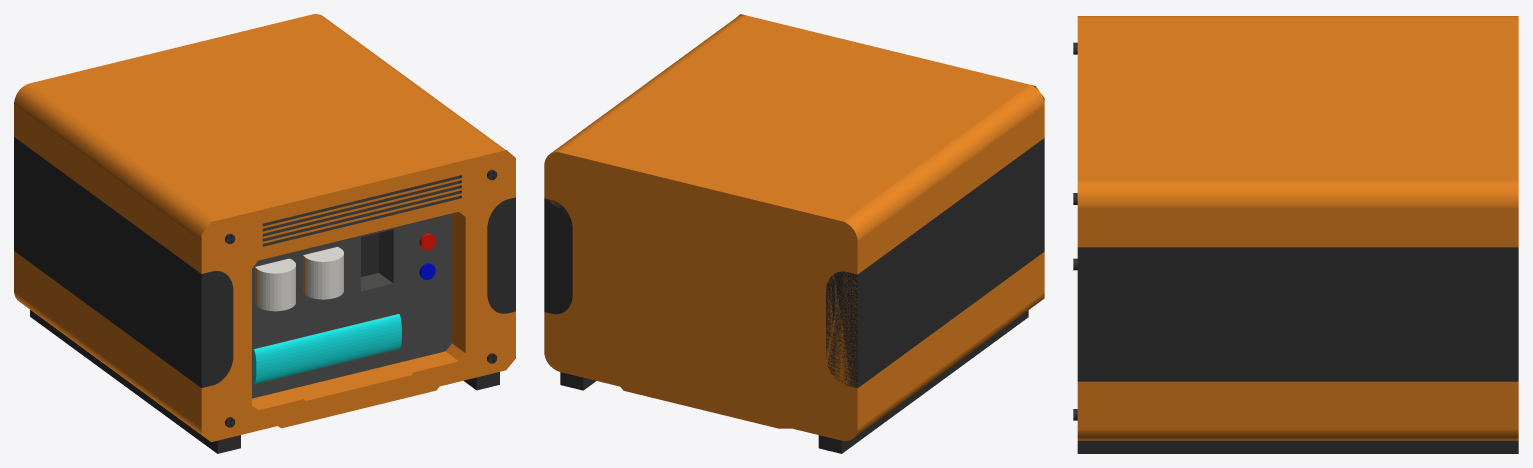
File: generator.fbx
3 renders of one model, left to right at view 1: azimuth 30°, elevation 25°; view 2: azimuth 150°, elevation 25°; view 3: azimuth 270°, elevation 25°, orthographic. The views are drawn at different scales.
Visible parts, largest first — view 1: 발전기; view 2: 발전기; view 3: 발전기.
Boxes of the visible parts, bbox=[...] form: 발전기: bbox=[14, 14, 515, 453]; 발전기: bbox=[544, 14, 1044, 453]; 발전기: bbox=[1073, 16, 1518, 453].
Bounding box in the file's own units: 648 × 460 × 676.
